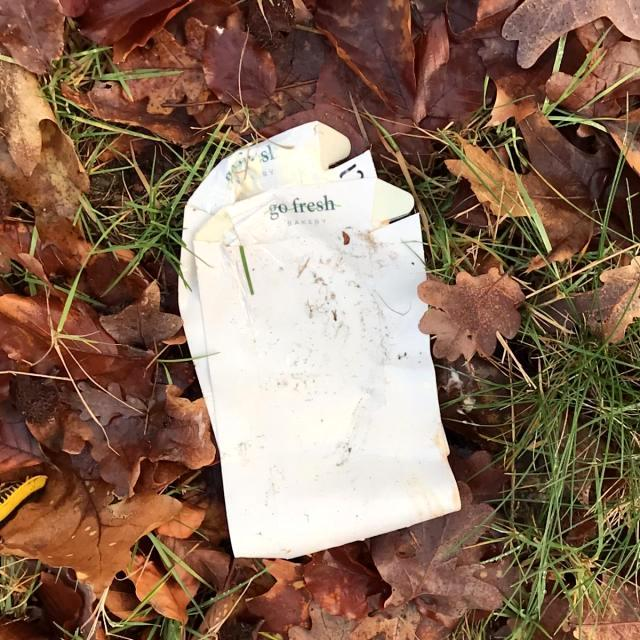Paper: (173, 114, 464, 564)
